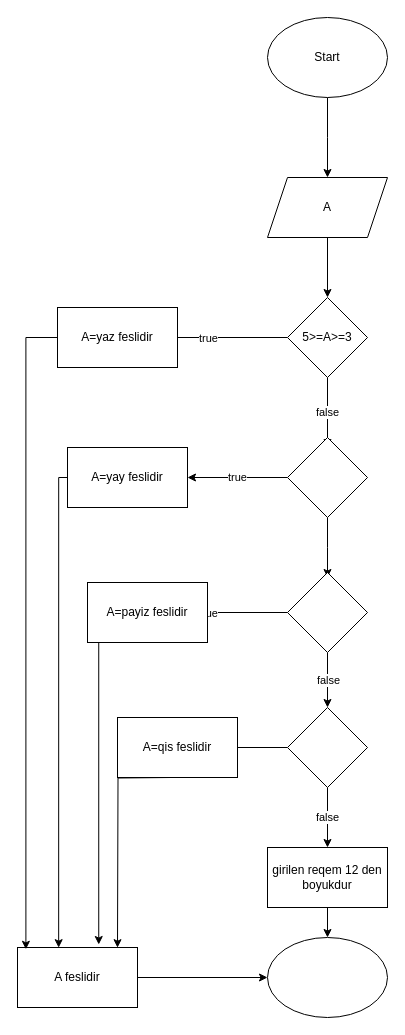
Image size: 405x1035. Some labels were removed from this diagram. The centre of each missing label's shape, as x and y in pixels:
"12>=A>=3" goes at pixel 327 747.
"12>=A>=9" goes at pixel 327 612.
"9>=A>=5" goes at pixel 327 477.
"end" goes at pixel 327 977.
